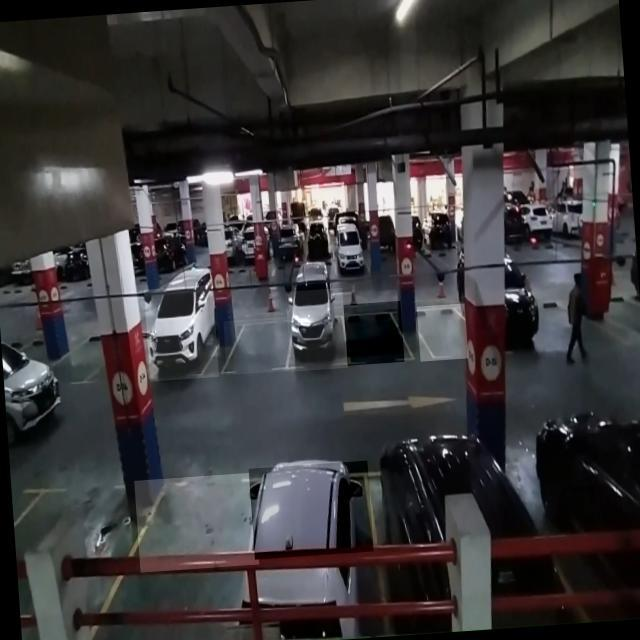empty: (134, 472, 259, 572), (341, 300, 404, 366), (222, 316, 292, 374), (416, 303, 468, 361)
occupied: (248, 460, 373, 559), (144, 284, 218, 381), (285, 288, 347, 372)
